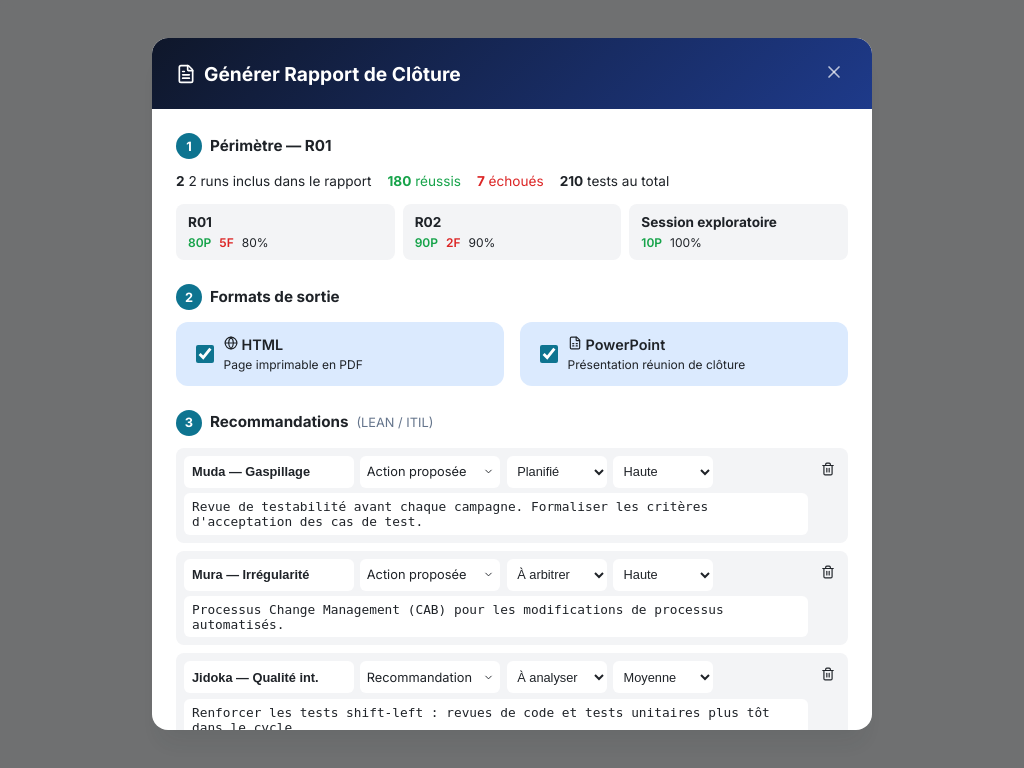
Scenario: ReportGeneratorModal › disables generate button when no format is selected
What coordinates should you click on to do the following:
click the checkbox labelled "HTML Page imprimable en PDF"
I would click on:
 (205, 354)
Its box is [196,345,214,363].
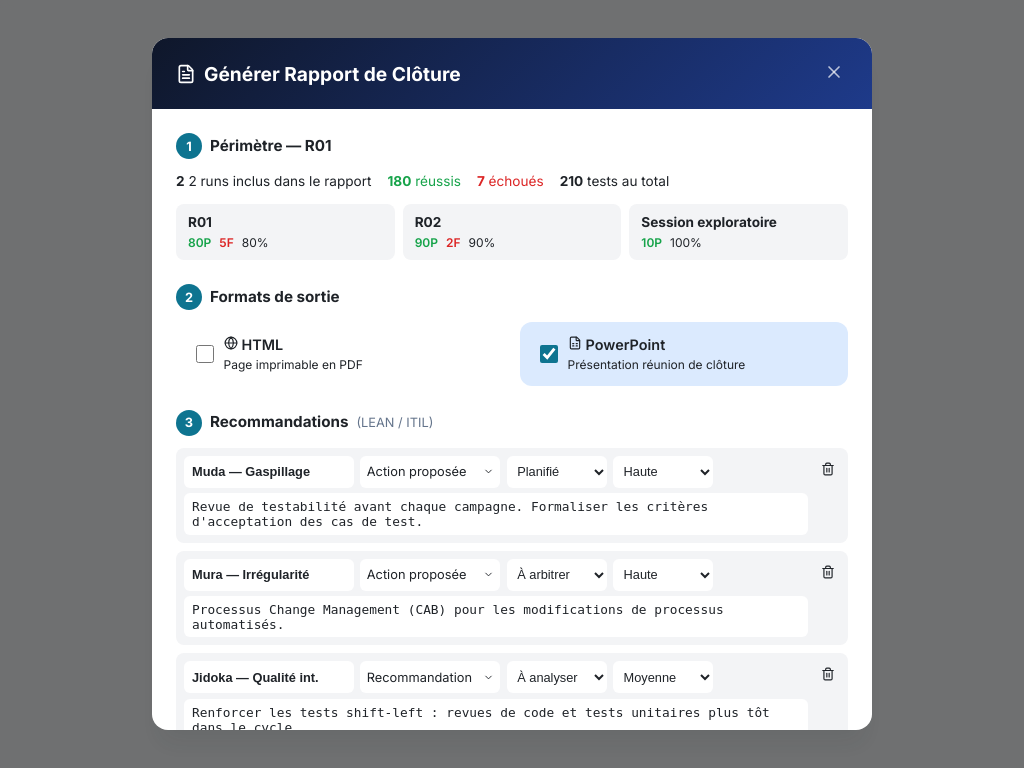
What coordinates should you click on to do the following:
click the checkbox labelled "PowerPoint Présentation réunion de clôture"
I would click on:
 (549, 354)
Its box is [540,345,558,363].
(page scrolled)
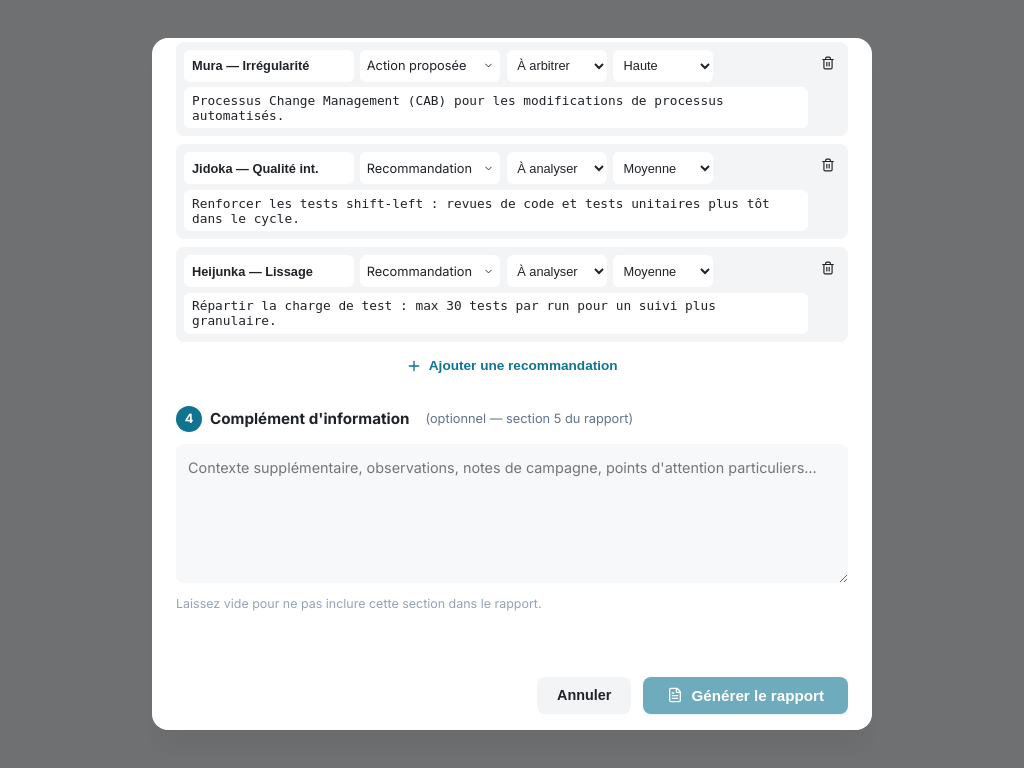
expect the button "Générer le rapport" is disabled: met, box [644,677,848,714]
